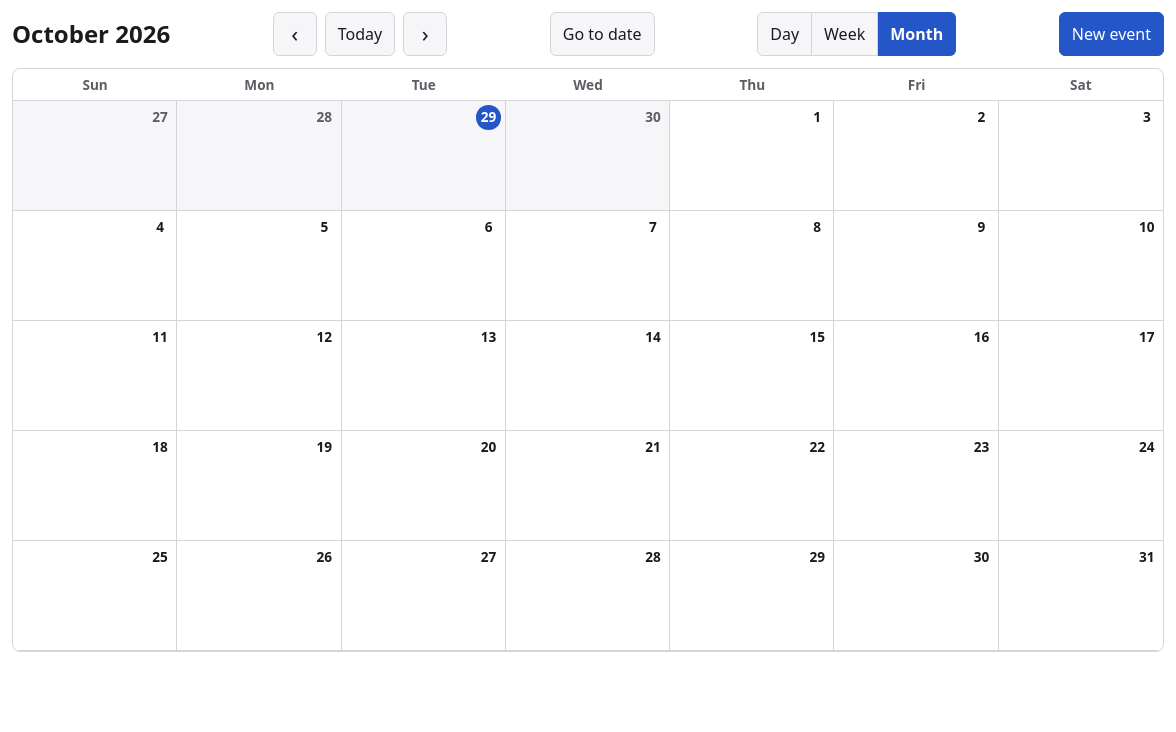
CalendarScreen: switching views (US1) › keeps the selected date when switching between month, day and week (FR-002)
What coordinates should you click on to do the following:
click the button "Day"
I would click on:
 (785, 34)
Its box is 757,12 -> 812,56.
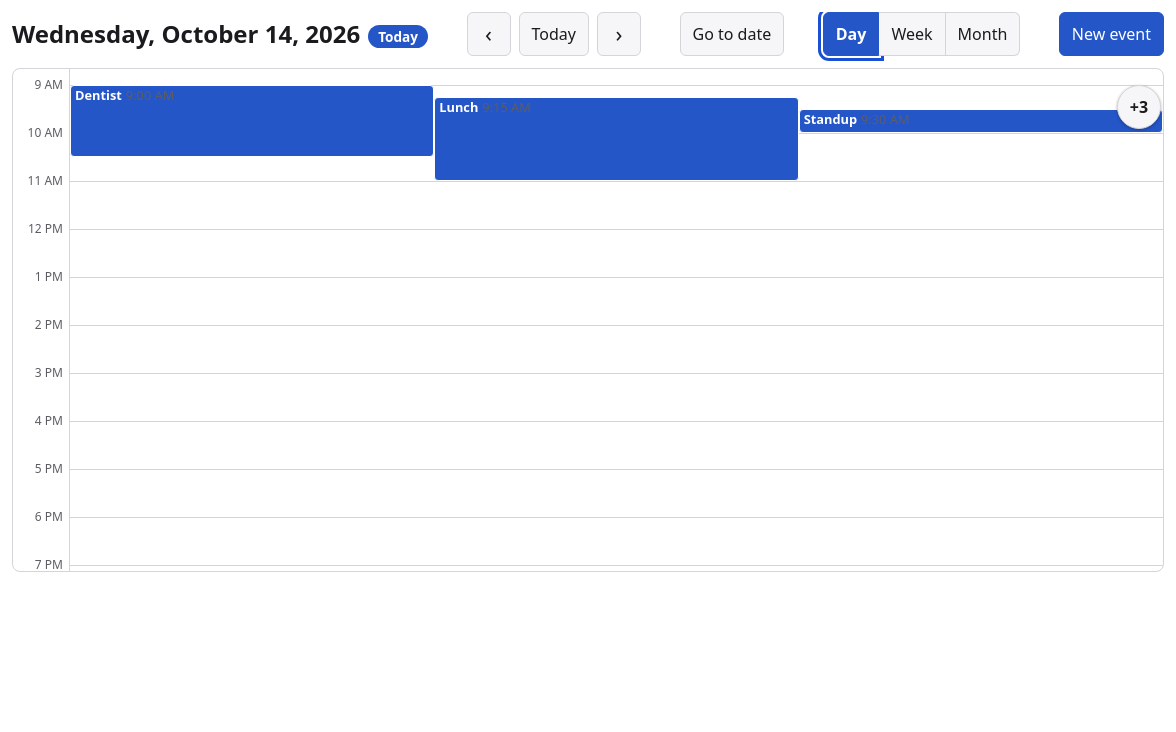
Expected: the heading "Wednesday, October 14, 2026 Today" is shown, 12,17 -> 428,51
What coordinates should you click on to do the following:
click the button "Week"
I would click on:
 (912, 34)
Its box is 879,12 -> 946,56.
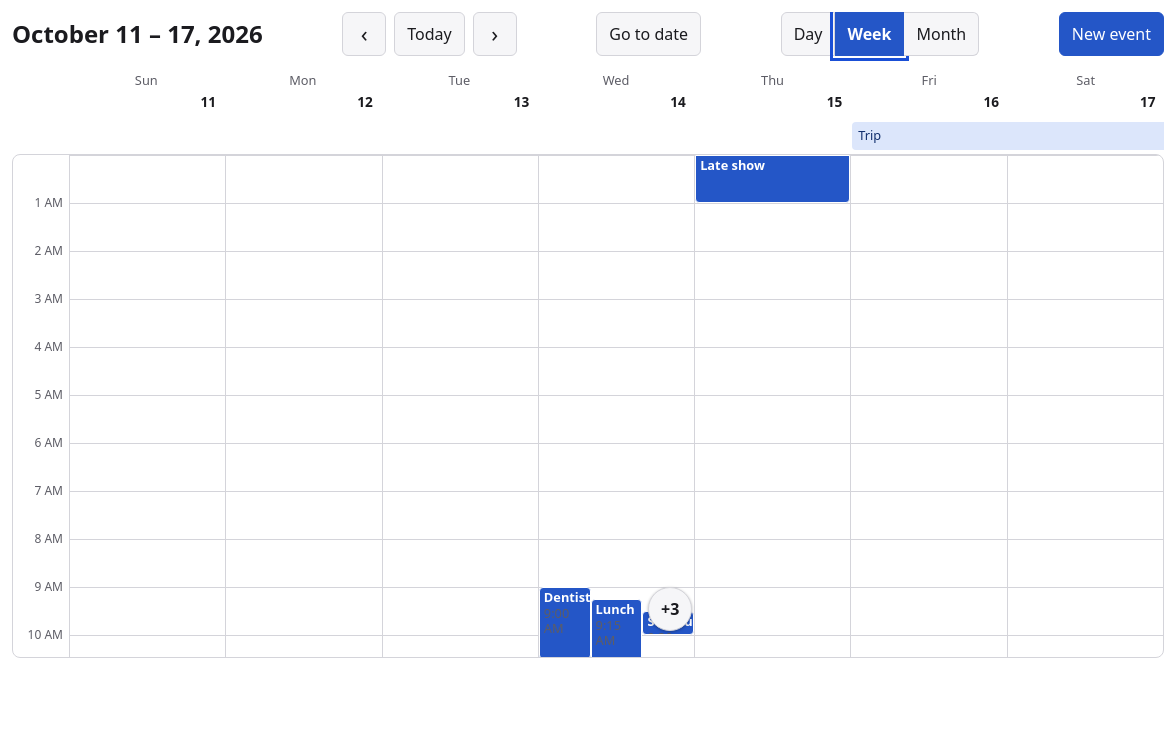
Expected: the heading "October 11 – 17, 2026" is shown, 12,17 -> 263,51
What coordinates should you click on to do the following:
click the button "Month"
I would click on:
 (942, 34)
Its box is 904,12 -> 979,56.
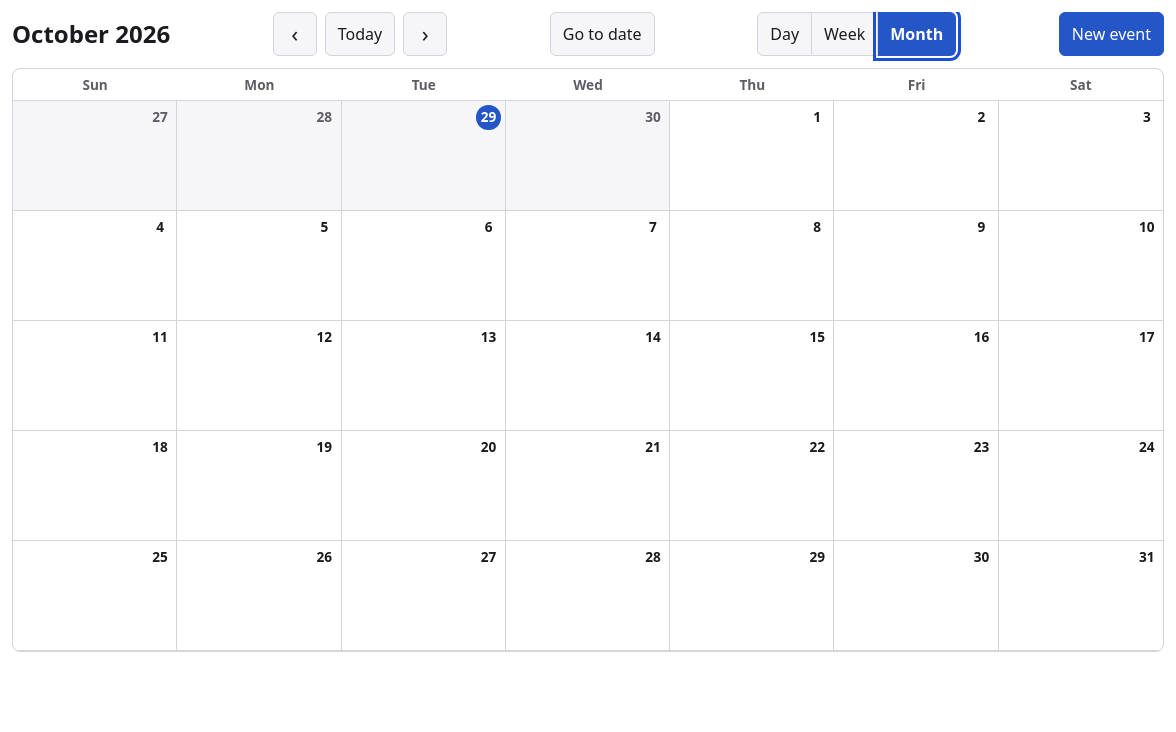
Expected: the table named "October 2026" is shown
